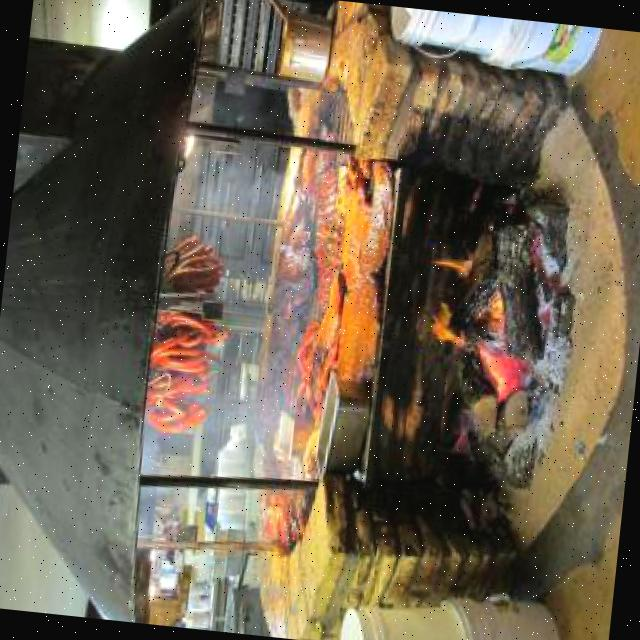fire: (408, 239, 544, 406)
